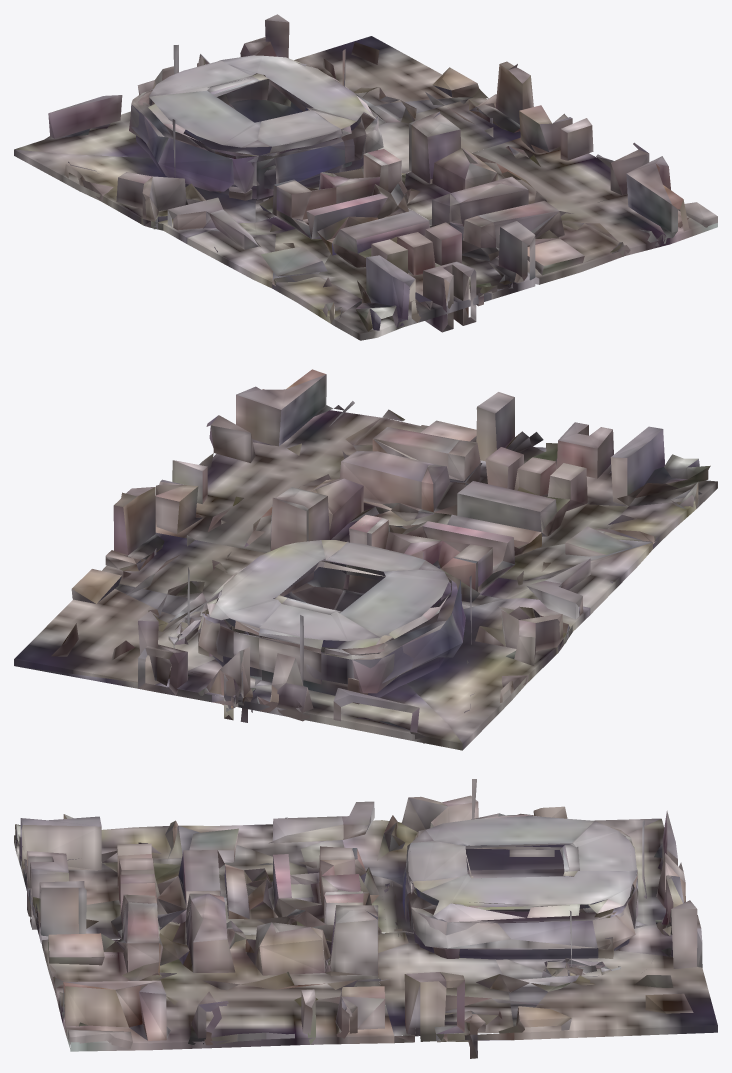
The picture shows the model from 3 angles, top to bottom: view 1: azimuth 30°, elevation 25°; view 2: azimuth 150°, elevation 25°; view 3: azimuth 270°, elevation 25°; orthographic projection. The views are drawn at different scales.
Visible parts, largest first — view 1: Mesh_0; view 2: Mesh_0; view 3: Mesh_0.
Boxes of the visible parts, left/top/right/bottom form: Mesh_0: left=14, top=14, right=717, bottom=340; Mesh_0: left=14, top=369, right=717, bottom=750; Mesh_0: left=14, top=779, right=717, bottom=1058.
Bounding box in the file's own units: 532 × 117 × 659.
1 material, 1 textured.
